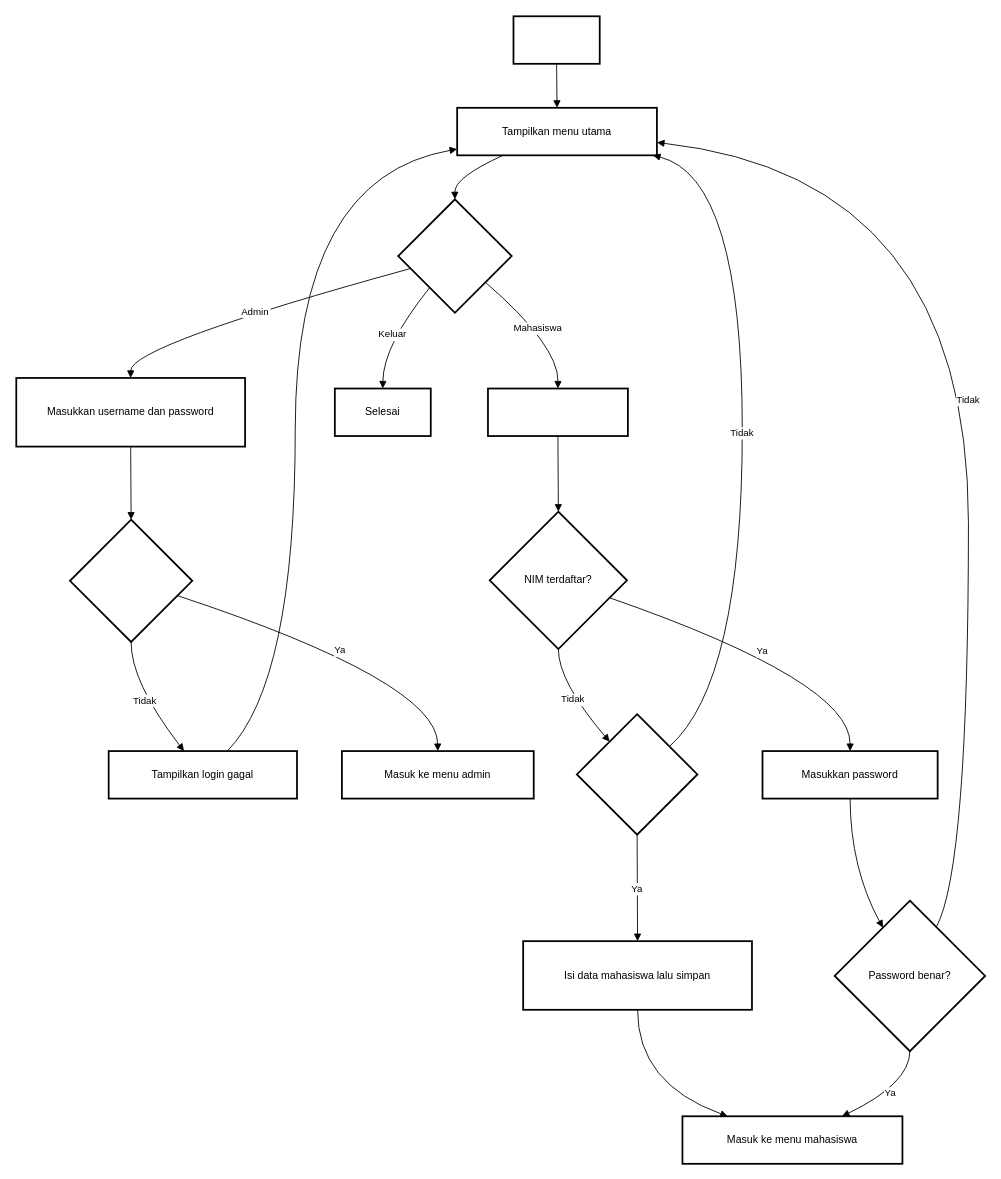
Some shapes in this 1001 by 1179 pixel diagram are drawn without their labels. Each missing label, with the centre of its shape:
Data cocok?: the point at 131,580
Masukkan NIM: the point at 557,411
Mau daftar?: the point at 637,774
Mulai: the point at 556,39
Pilih menu: the point at 454,255
